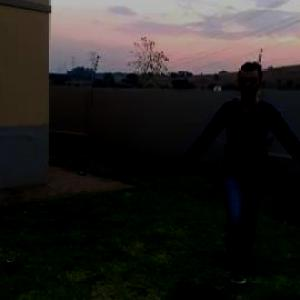land: (169, 38, 299, 299)
